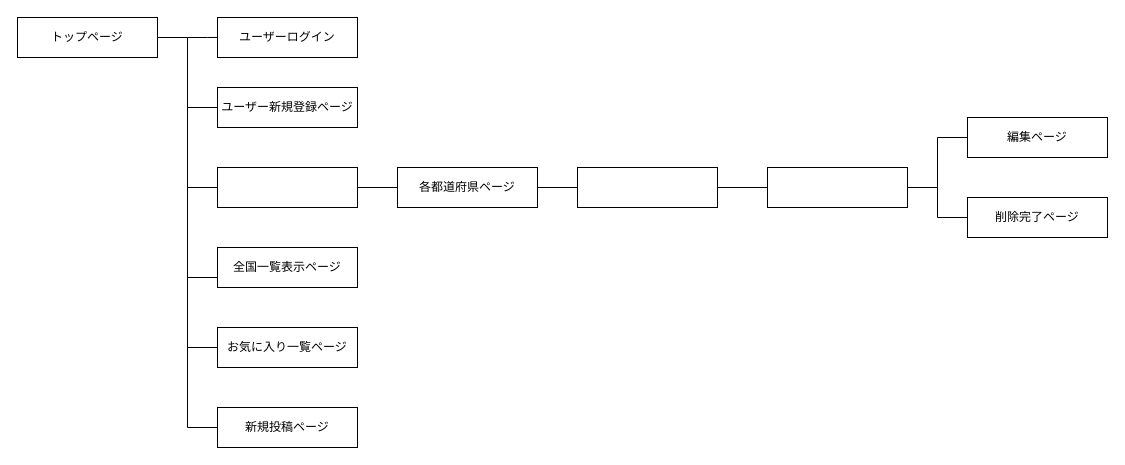
Image size: 1125x465. Some labels were removed from this diagram. The centre of each missing label's shape, as x and y in pixels:
一覧表示ページ: point (647, 187)
地方区分ページ: point (287, 187)
詳細ページ: point (837, 187)
